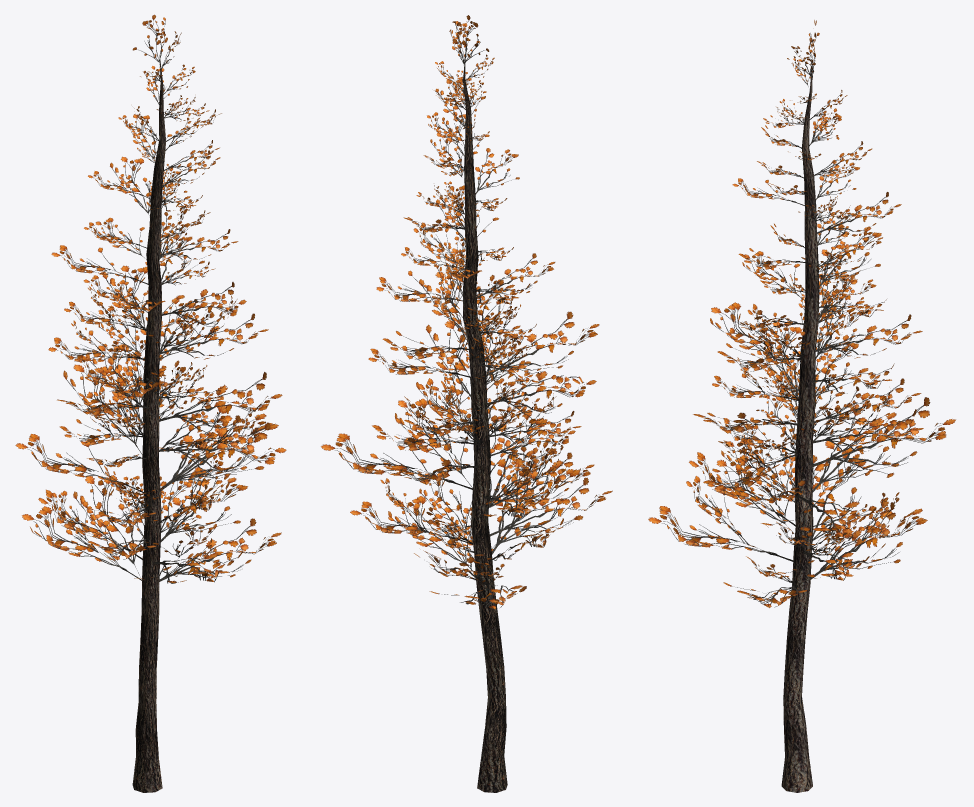
The model's file is tree 01.glb.
3 views of the same model, side by side, from view 1: azimuth 30°, elevation 25°; view 2: azimuth 150°, elevation 25°; view 3: azimuth 270°, elevation 25° (orthographic).
Parts seen in each view (by area): view 1: Tree_Branches; view 2: Tree_Branches; view 3: Tree_Branches.
Boxes of the visible parts, x1,y1,x2,y2 form: Tree_Branches: [15, 14, 286, 792]; Tree_Branches: [321, 15, 612, 792]; Tree_Branches: [648, 20, 955, 792].
Size of the model in its own units: 3.37e+07 by 9.7e+07 by 3.55e+07.
1 material, 1 textured.
